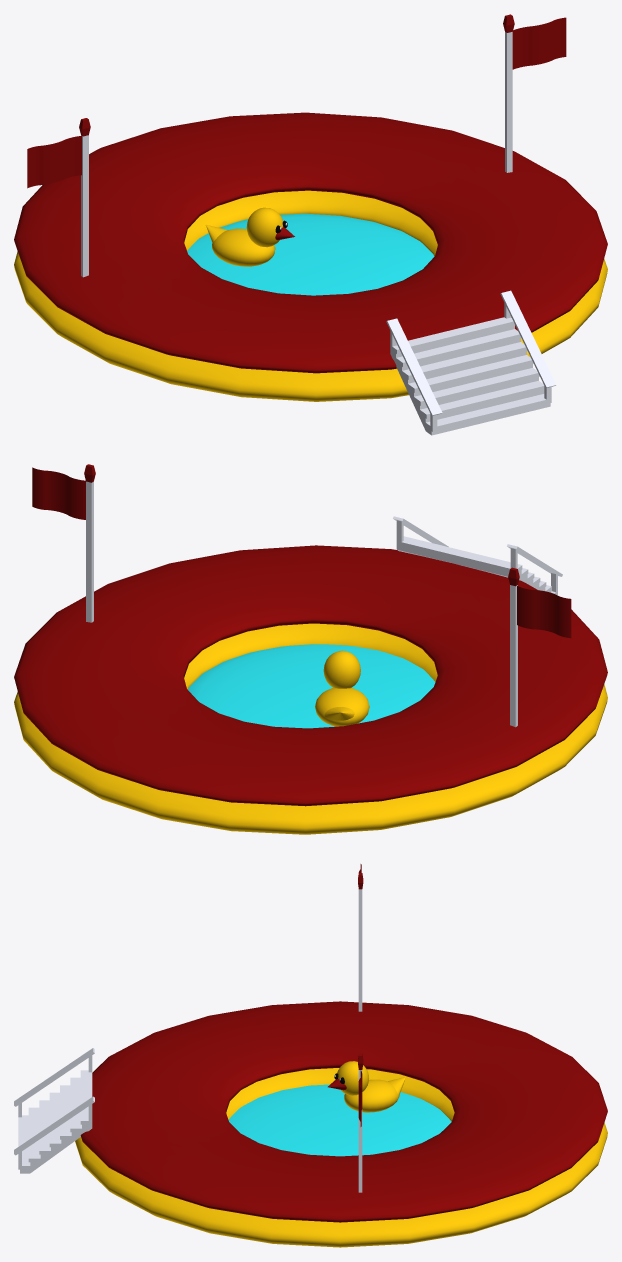
The model's file is KiddiePool.fbx.
3 views of the same model, one above another, from view 1: azimuth 30°, elevation 25°; view 2: azimuth 150°, elevation 25°; view 3: azimuth 270°, elevation 25° (orthographic). The views are drawn at different scales.
Visible parts, largest first — view 1: torus% (×2), stairs_stoneRailing, sphere_half, flag_square (×2), sphere (×2); view 2: torus% (×2), sphere_half, flag_square (×2), stairs_stoneRailing, sphere (×2); view 3: torus% (×2), sphere_half, stairs_stoneRailing, sphere (×2), flag_square (×2).
Part boxes in pixels (left/top/right/bottom): torus% (×2): left=14, top=112, right=607, bottom=401; stairs_stoneRailing: left=386, top=290, right=556, bottom=435; sphere_half: left=187, top=213, right=434, bottom=295; flag_square (×2): left=27, top=14, right=566, bottom=277; sphere (×2): left=212, top=207, right=283, bottom=266; torus% (×2): left=14, top=545, right=607, bottom=834; sphere_half: left=188, top=644, right=435, bottom=728; flag_square (×2): left=32, top=464, right=571, bottom=727; stairs_stoneRailing: left=393, top=516, right=562, bottom=595; sphere (×2): left=315, top=650, right=369, bottom=726; torus% (×2): left=75, top=1001, right=607, bottom=1247; sphere_half: left=228, top=1084, right=451, bottom=1156; stairs_stoneRailing: left=14, top=1048, right=94, bottom=1173; sphere (×2): left=337, top=1061, right=399, bottom=1112; flag_square (×2): left=358, top=864, right=363, bottom=1192.
Size of the model in its own units: 75 by 28.34 by 81.94.
